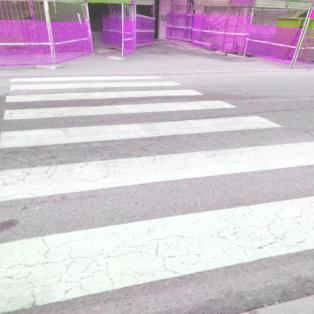Paso de Cebra: (1, 138, 314, 314), (2, 88, 243, 123)
